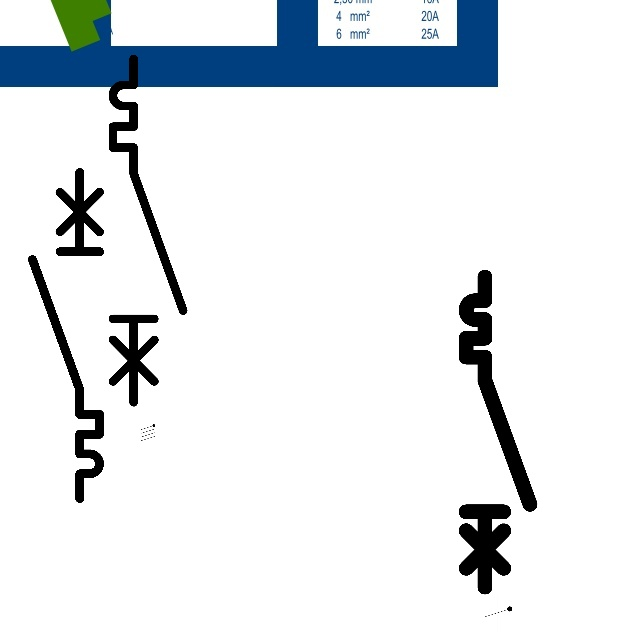interruptor_termomagnetico: (104, 50, 192, 411), (24, 164, 108, 507), (458, 269, 537, 595)
